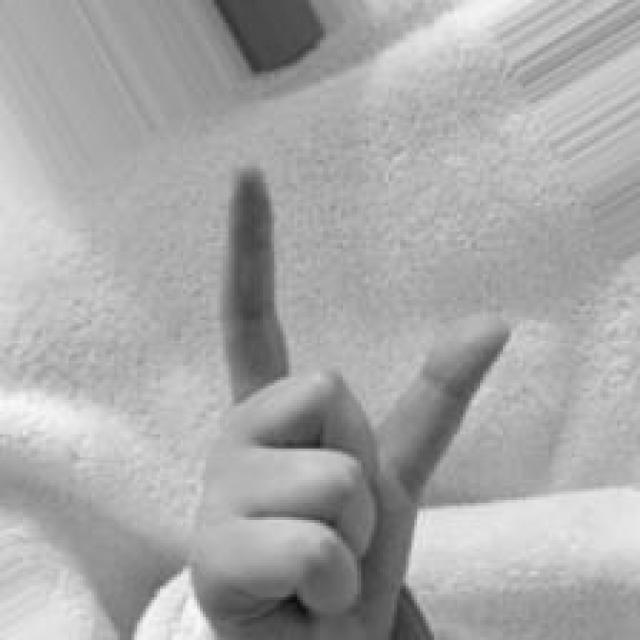L: (189, 157, 521, 640)
